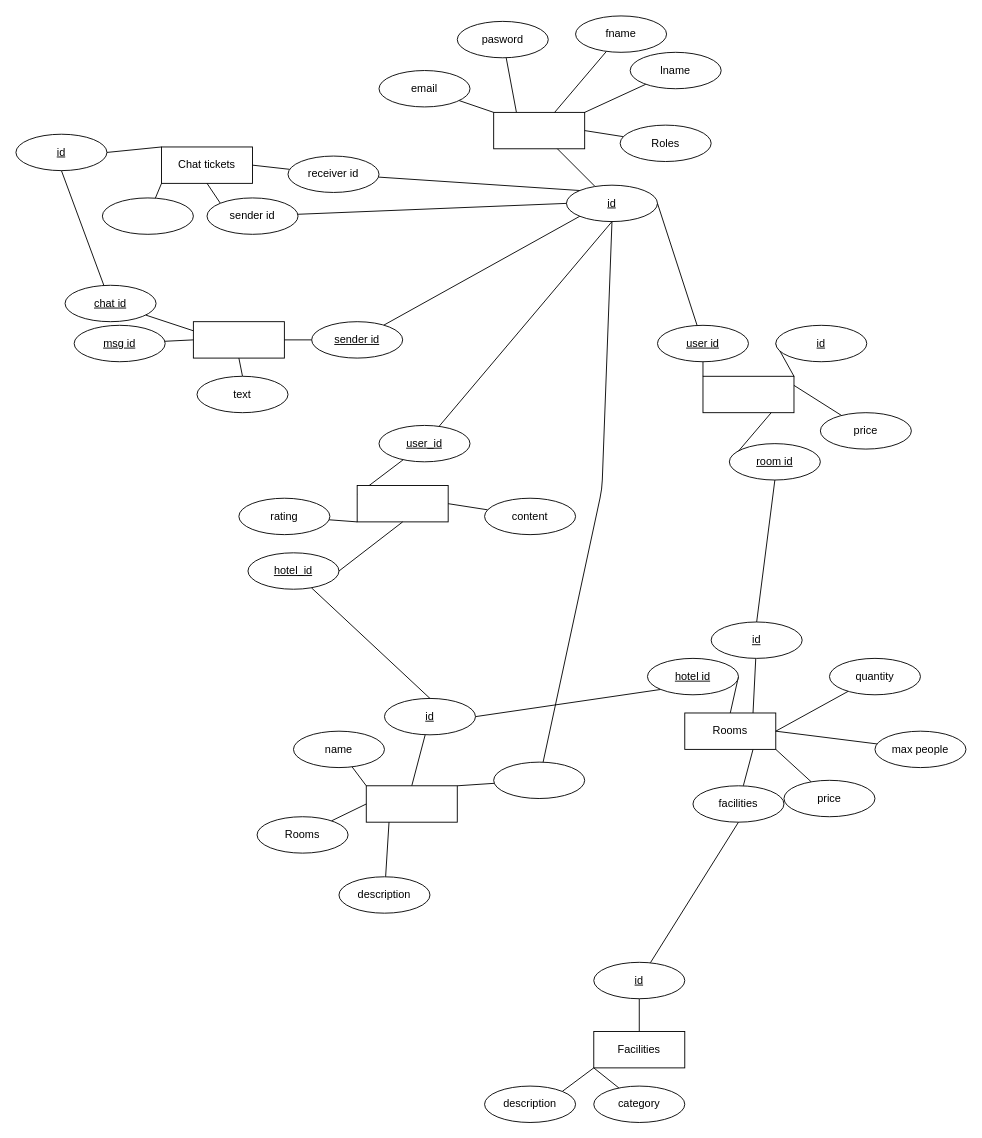
Some shapes in this 982 by 1138 pixel diagram are drawn without their labels. The centre of each missing label's shape, as x and y in pixels:
Messages: [238,339]
owner id: [539,780]
Property: [411,803]
Reservations: [748,394]
Review: [402,503]
type: [147,215]
Users: [539,130]
